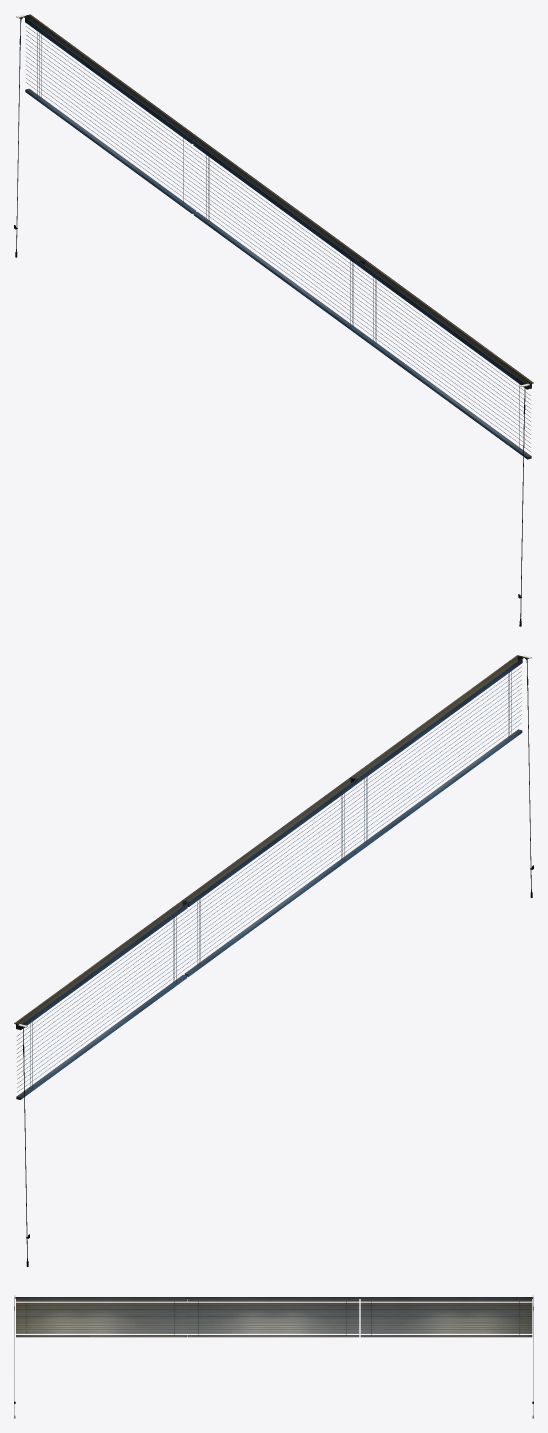
File: CR_Window_Blinds.FBX
3 renders of one model, top to bottom at view 1: azimuth 30°, elevation 25°; view 2: azimuth 150°, elevation 25°; view 3: azimuth 270°, elevation 25°, orthographic. The views are drawn at different scales.
Parts seen in each view (by area): view 1: CR_Window_Blinds; view 2: CR_Window_Blinds; view 3: CR_Window_Blinds.
Part boxes in pixels (x1,y1,x2,y2): CR_Window_Blinds: (14,14,533,626); CR_Window_Blinds: (14,655,533,1266); CR_Window_Blinds: (14,1295,533,1418).
Bounding box in the file's own units: 14.5 × 214 × 817.
